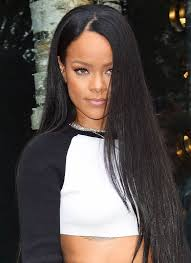black_female: (45, 4, 149, 129)
